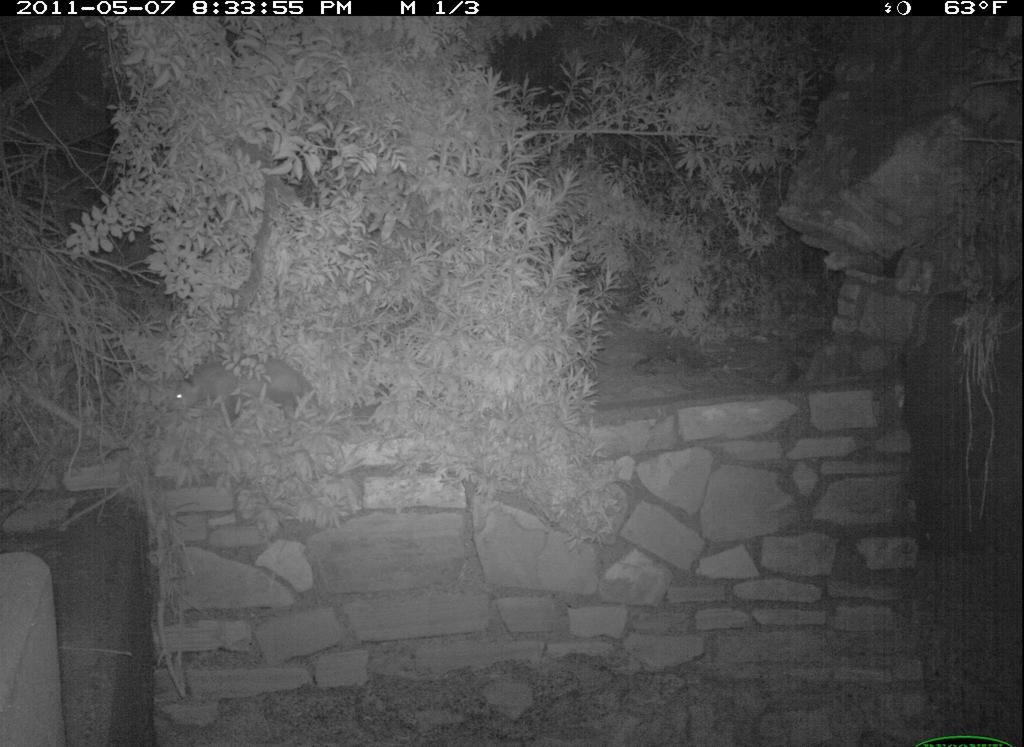opossum: (161, 350, 331, 437)
